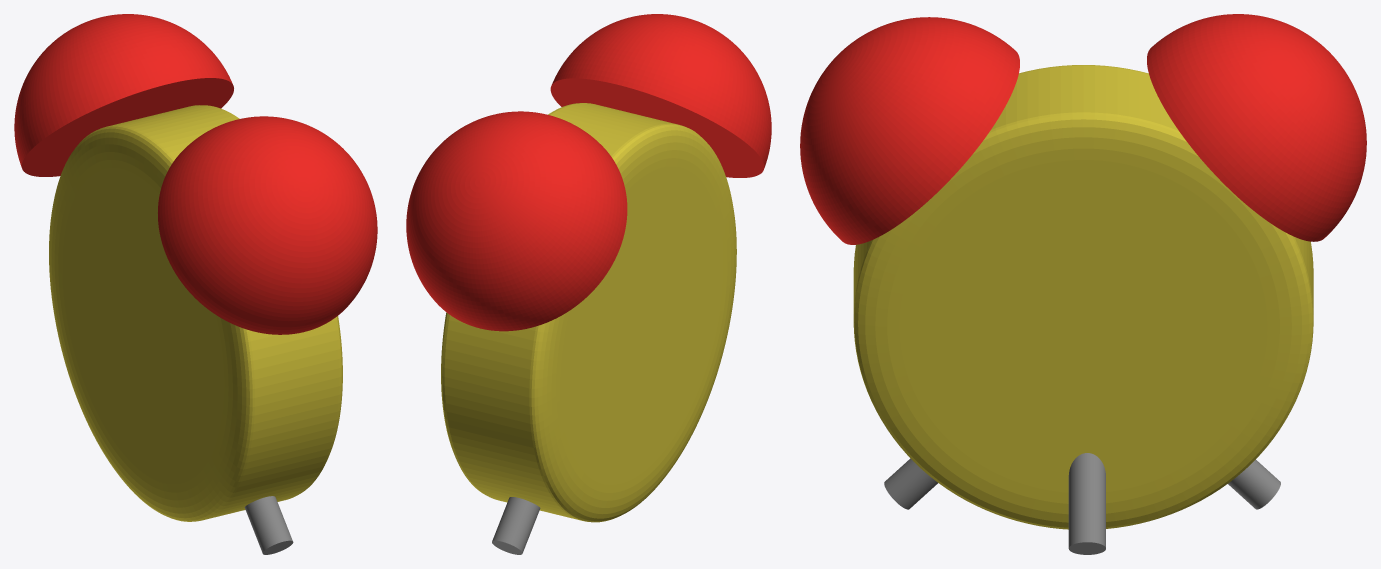
File: clock.fbx
3 renders of one model, left to right at view 1: azimuth 30°, elevation 25°; view 2: azimuth 150°, elevation 25°; view 3: azimuth 270°, elevation 25°, orthographic. The views are drawn at different scales.
Parts seen in each view (by area): view 1: Cylinder, Sphere, Sphere.001, Cylinder.001; view 2: Cylinder, Sphere.001, Sphere, Cylinder.002; view 3: Cylinder, Sphere.001, Sphere, Cylinder.003, Cylinder.001, Cylinder.002.
Part boxes in pixels (x1=…): Cylinder: x1=49, y1=105, x2=342, y2=521; Sphere: x1=158, y1=116, x2=377, y2=334; Sphere.001: x1=14, y1=14, x2=233, y2=176; Cylinder.001: x1=244, y1=496, x2=293, y2=554; Cylinder: x1=441, y1=103, x2=736, y2=522; Sphere.001: x1=406, y1=111, x2=627, y2=331; Sphere: x1=550, y1=14, x2=771, y2=177; Cylinder.002: x1=492, y1=497, x2=540, y2=554; Cylinder: x1=853, y1=65, x2=1313, y2=529; Sphere.001: x1=1147, y1=14, x2=1366, y2=241; Sphere: x1=800, y1=17, x2=1019, y2=244; Cylinder.003: x1=1068, y1=453, x2=1105, y2=554; Cylinder.001: x1=884, y1=458, x2=937, y2=509; Cylinder.002: x1=1228, y1=459, x2=1280, y2=509.
Size of the model in its own units: 115 by 231 by 246.
